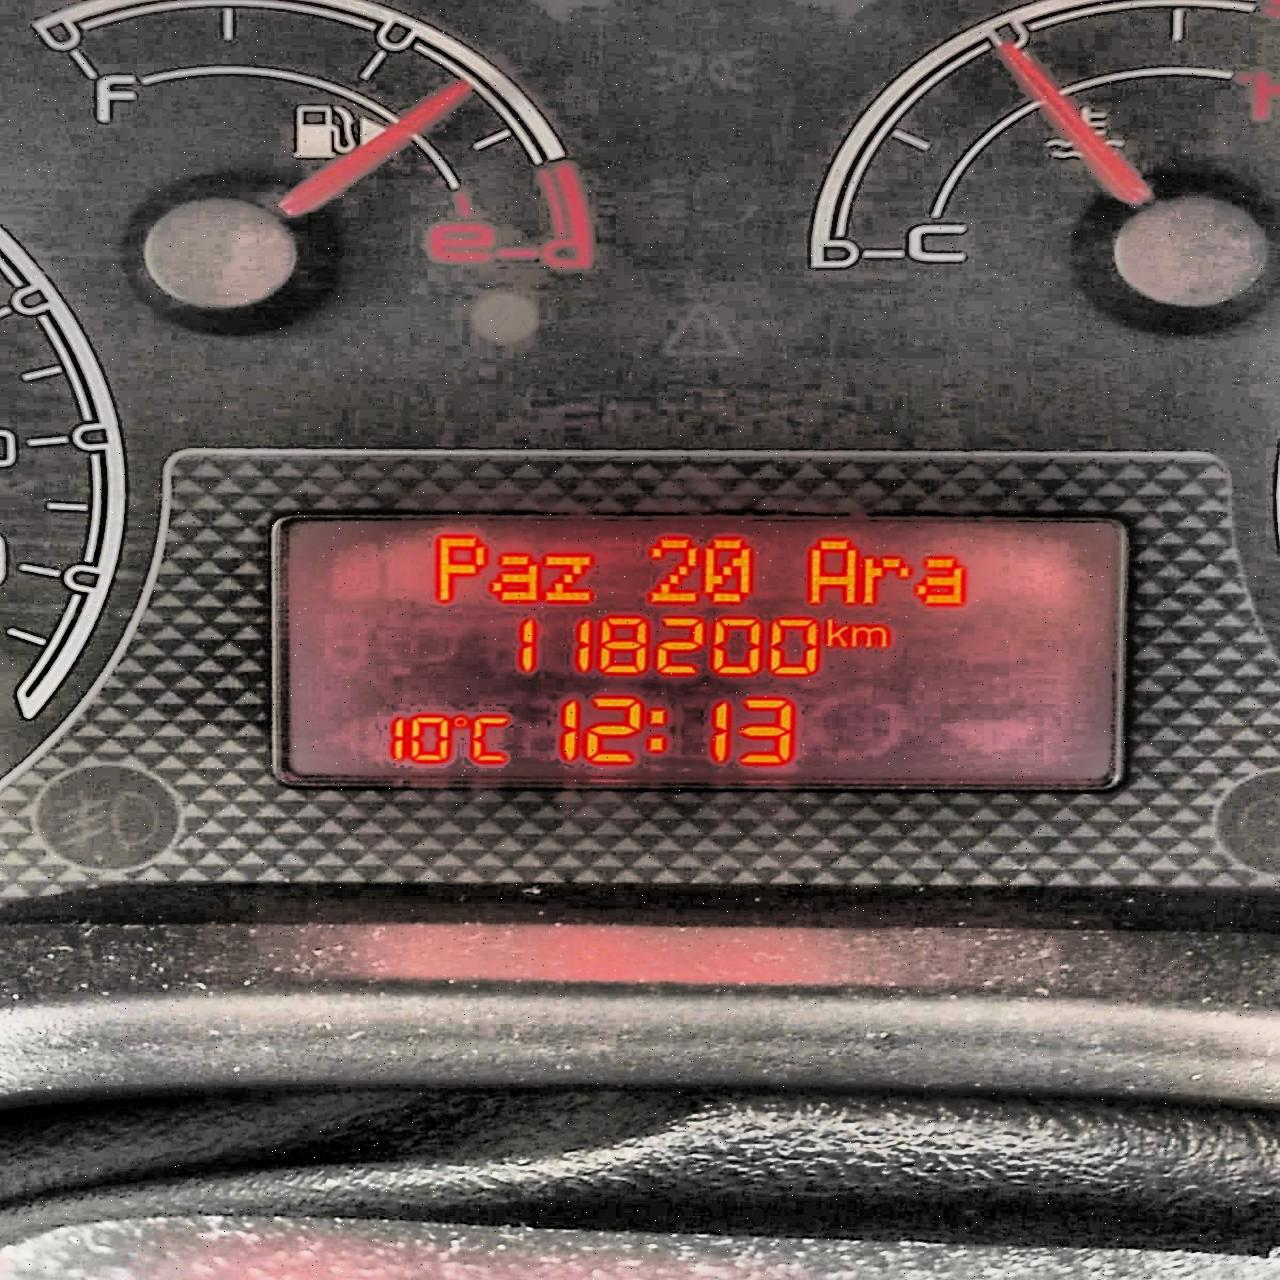0: (703, 537, 757, 605), (712, 613, 760, 678), (769, 613, 817, 678), (409, 710, 448, 764)
1: (518, 611, 543, 680), (559, 696, 580, 765), (712, 695, 731, 765), (572, 613, 594, 674), (389, 713, 408, 768)
2: (588, 692, 640, 767), (647, 535, 701, 605), (654, 614, 706, 675)
3: (736, 692, 799, 768)
8: (601, 611, 651, 678)
X: (805, 536, 860, 607), (436, 532, 486, 601), (913, 553, 967, 606), (543, 550, 597, 601), (491, 551, 539, 601), (864, 553, 907, 606), (470, 714, 512, 764), (852, 622, 891, 651), (646, 702, 666, 755), (822, 615, 850, 649)
odometer: (270, 501, 1129, 791)
